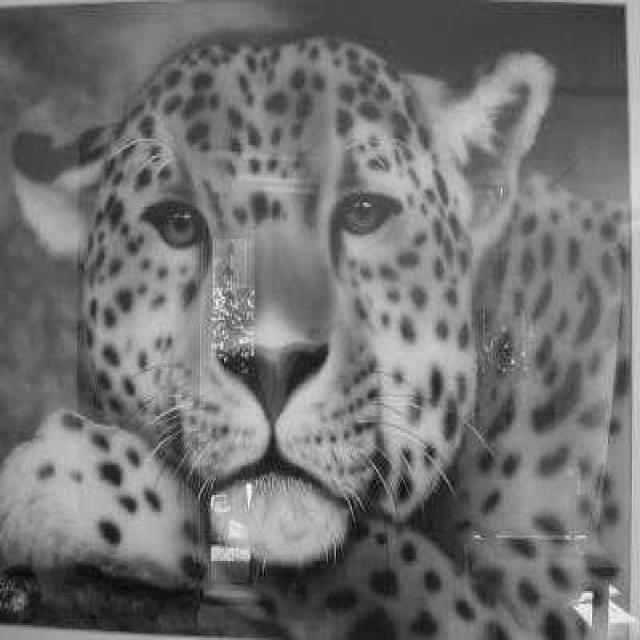Leopard: (0, 25, 629, 636)
